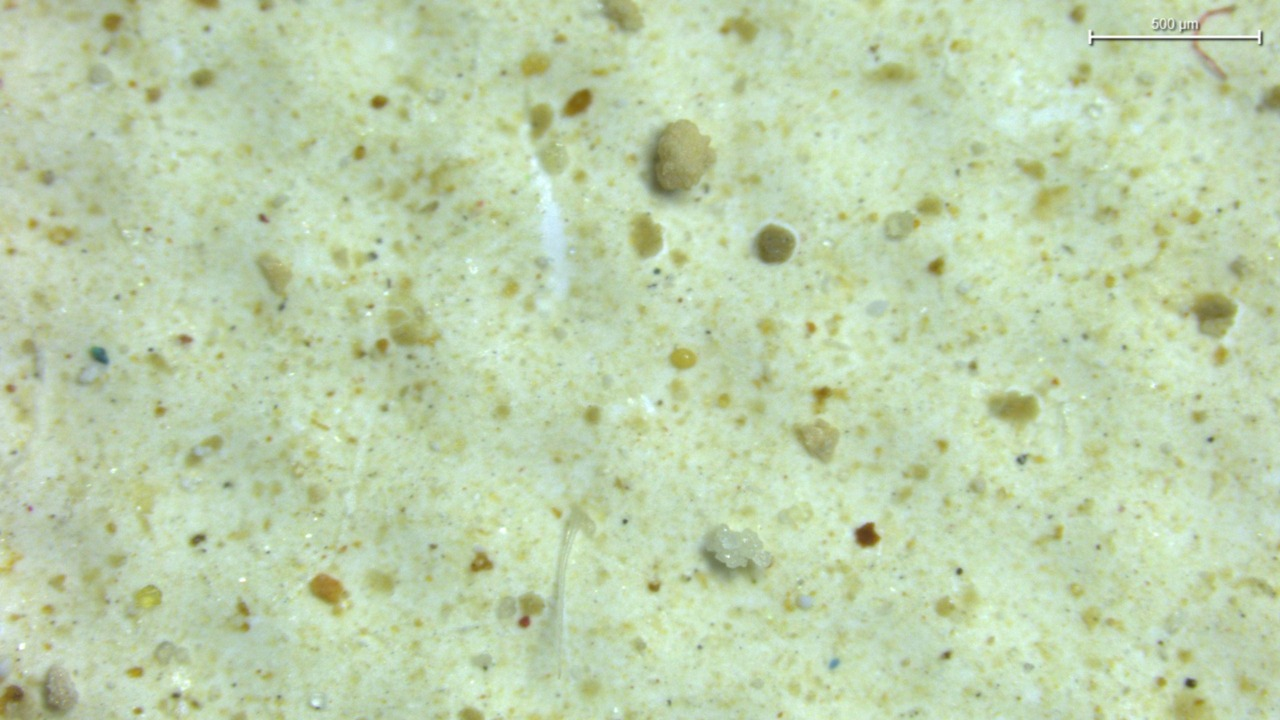microplastic_fragment: (652, 119, 715, 192), (705, 524, 772, 570)
